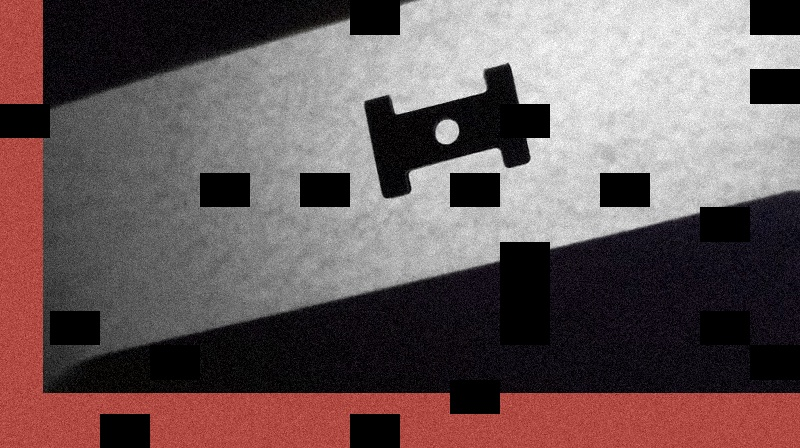O002: (358, 55, 531, 200)
